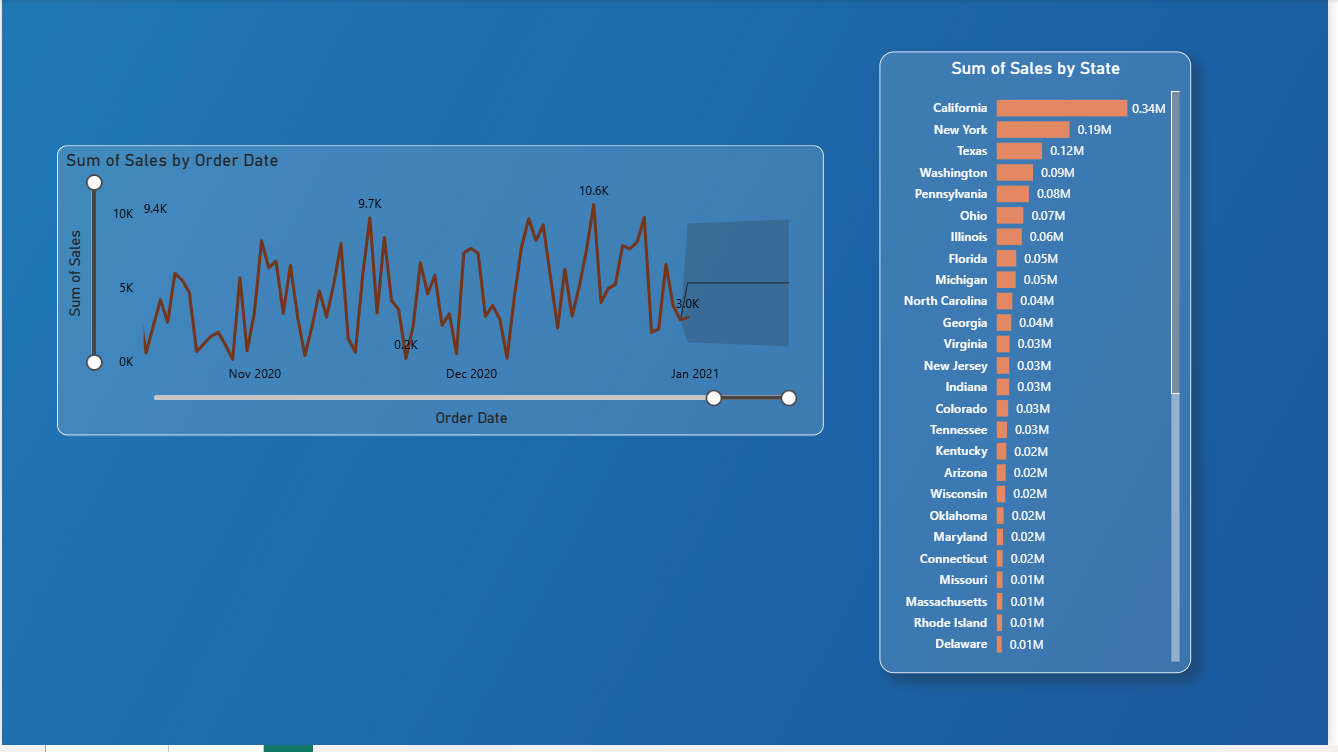

This screenshot's page, from the dashboard's own definition file:
{"tool":"powerbi","page":{"name":"Page 1","canvas":[1280,720],"ordinal":1},"visuals":[{"type":"lineChart","fields":{"Y":["Sum(sales.Sales)"],"Category":["sales.Order Date"]},"box":[53.5,141.3,739.6,279.9],"z":0},{"type":"barChart","fields":{"Category":["sales.State"],"Y":["Sum(sales.Sales)"]},"box":[846.7,50.8,300.5,599.7],"z":1000}]}

Visuals, with their boxes in screenshot pixels (x1, y1, x2, y2), scaled from the page's 1280x720 canvas onto the 1338x752 screenshot:
lineChart - Sum(sales.Sales) x sales.Order Date: l=56, t=148, r=829, b=440
barChart - sales.State x Sum(sales.Sales): l=885, t=53, r=1199, b=679
